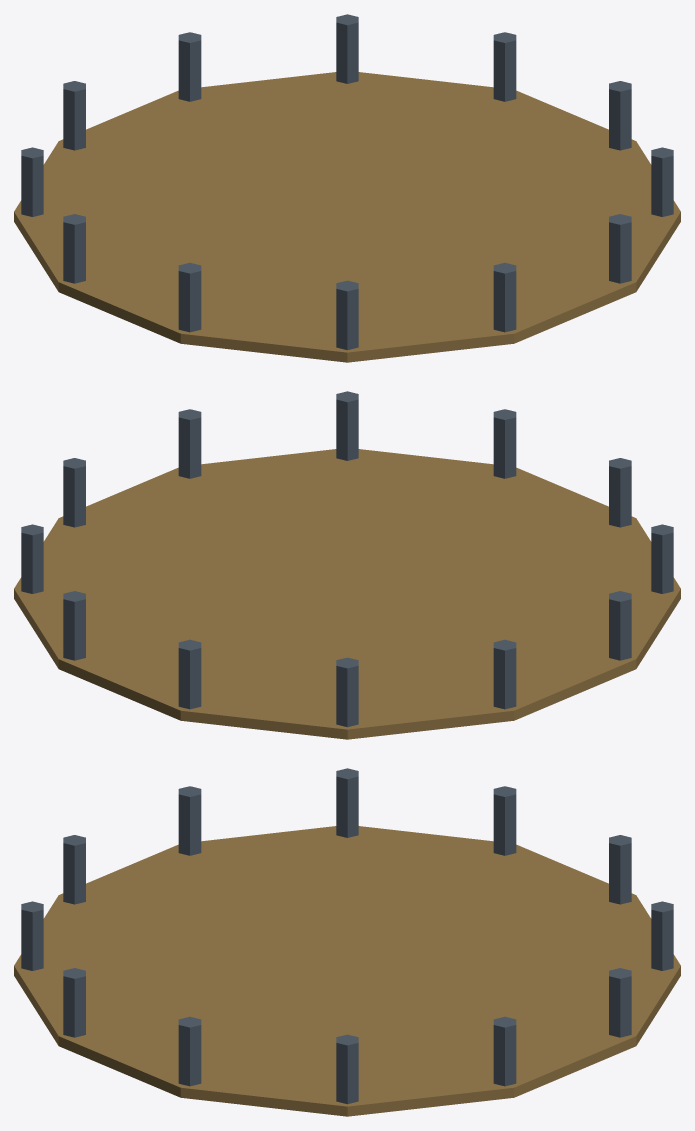
File: combat_arena.obj
3 views of the same model, one above another, from view 1: azimuth 30°, elevation 25°; view 2: azimuth 150°, elevation 25°; view 3: azimuth 270°, elevation 25° (orthographic).
Parts seen in each view (by area): view 1: models/environment/combat_arena.obj; view 2: models/environment/combat_arena.obj; view 3: models/environment/combat_arena.obj.
Boxes of the visible parts, x1,y1,x2,y2 form: models/environment/combat_arena.obj: (14, 14, 680, 362); models/environment/combat_arena.obj: (14, 391, 680, 739); models/environment/combat_arena.obj: (14, 768, 680, 1116).
Bounding box in the file's own units: 14.4 × 1.64 × 14.4.
